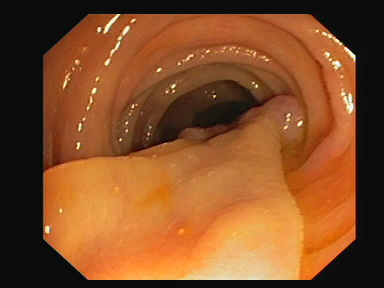polyp: (180, 97, 314, 166)
